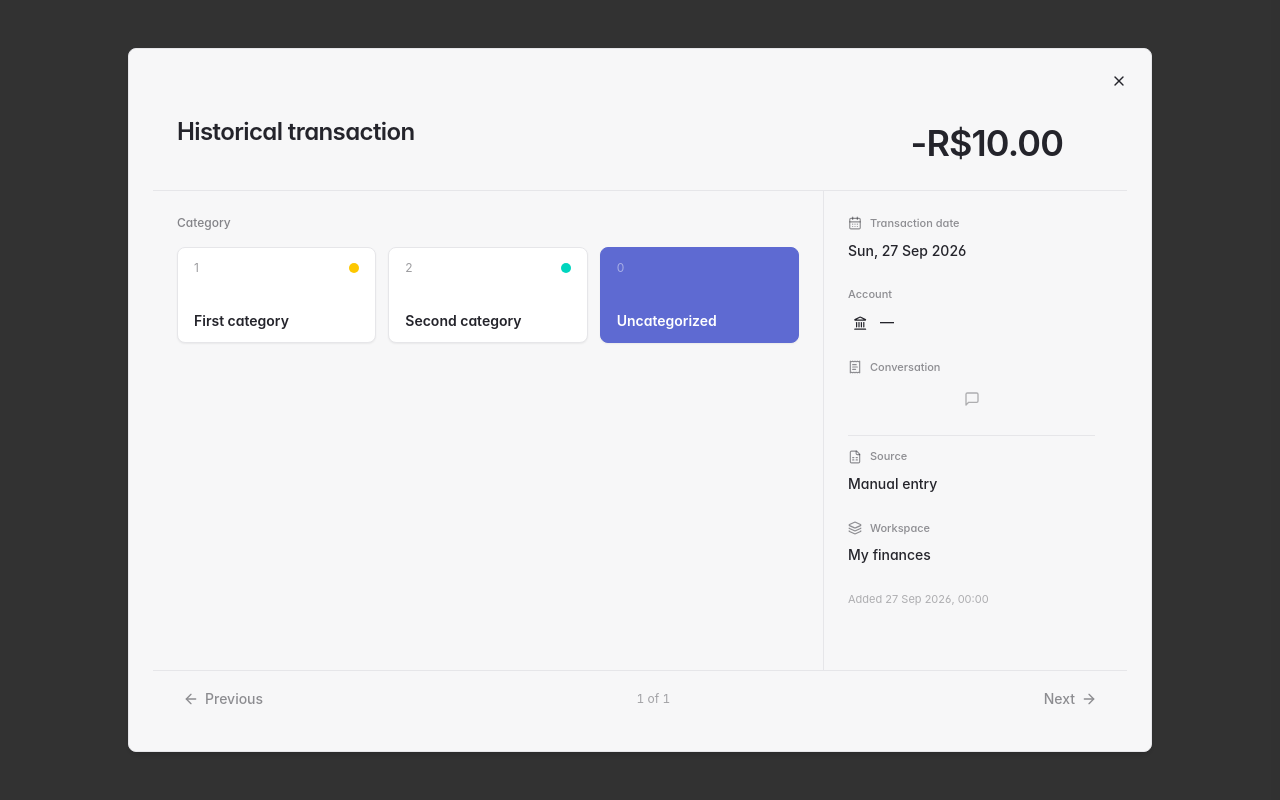
it: TransactionDetailsModal › closes the thread with Escape without closing transaction details or categorizing
Click the button named "Add transaction comment" at coordinates (972, 399), box [956,383,988,415]
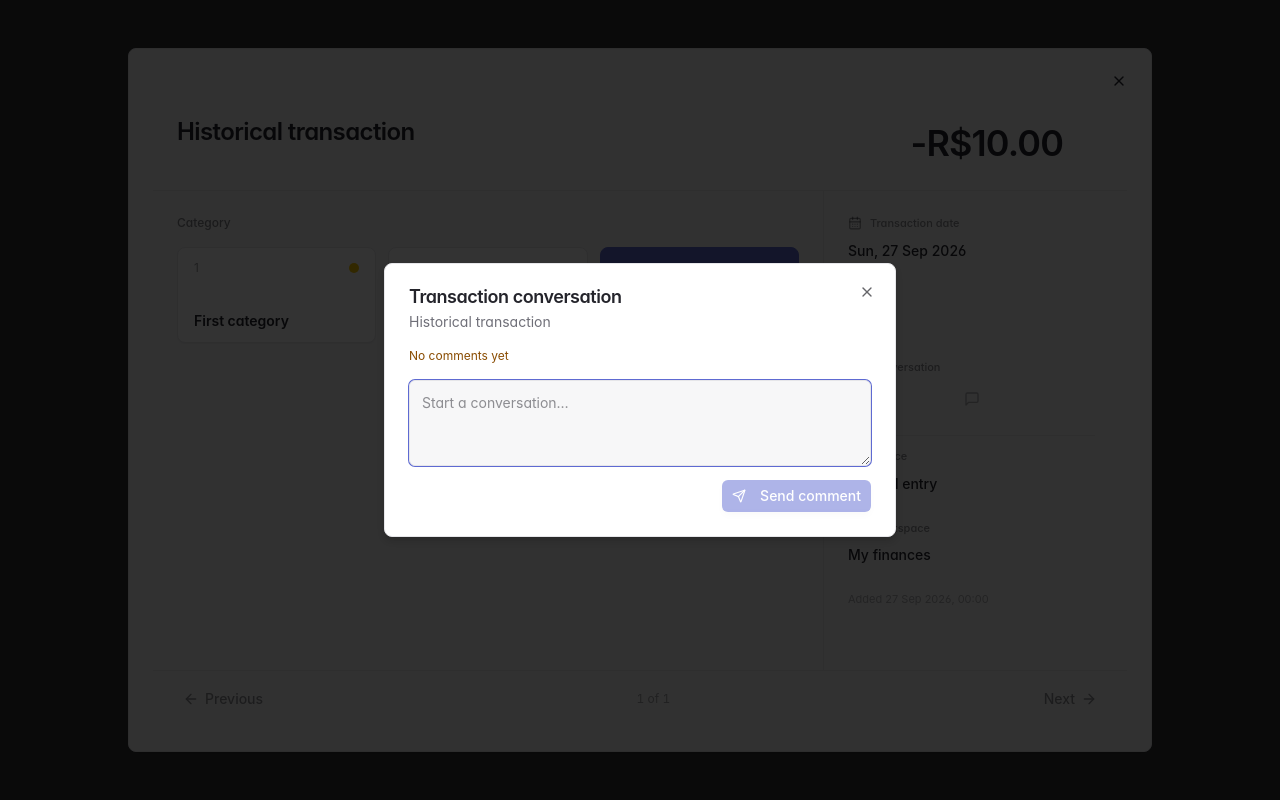
Type "Draft 123" into the text box named "Comment" at coordinates (640, 423), box [409,380,871,466]
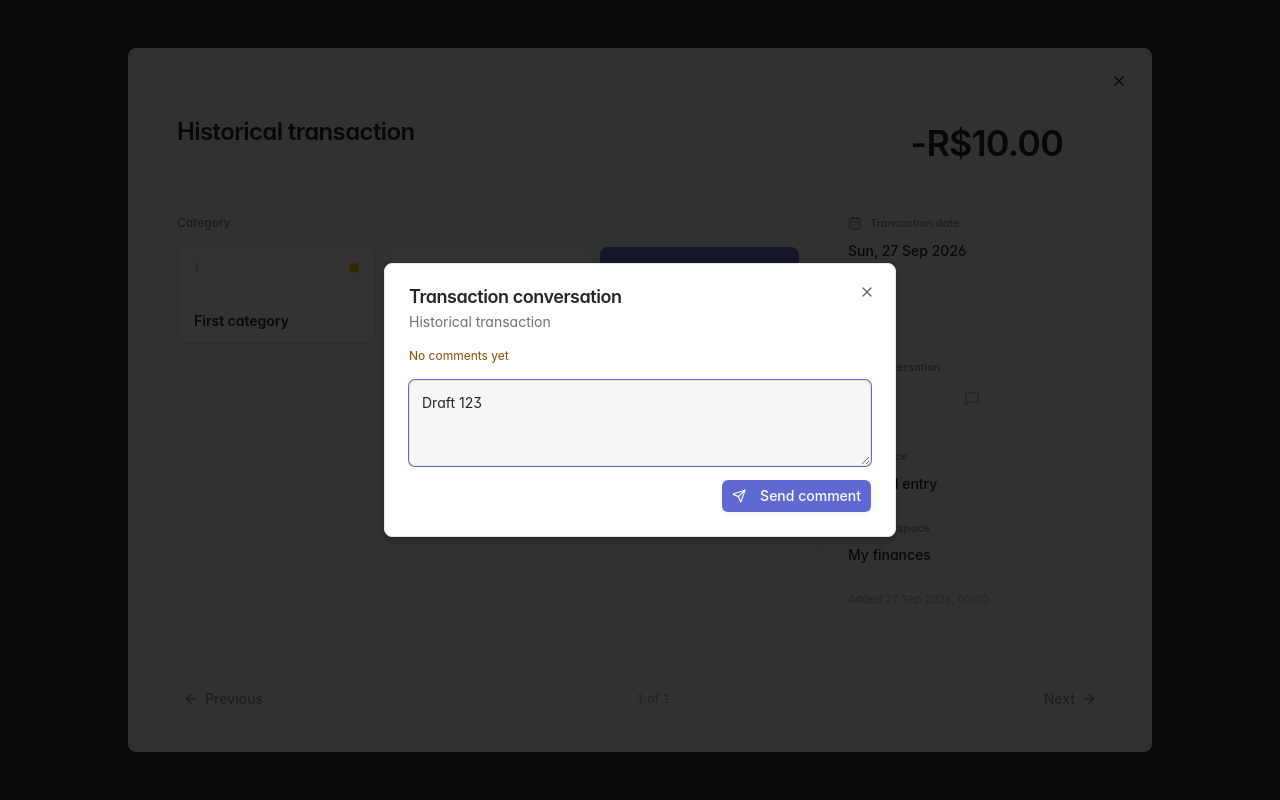
Press 1 in the text box named "Comment", box [409,380,871,466]
Press Escape in the text box named "Comment", box [409,380,871,466]
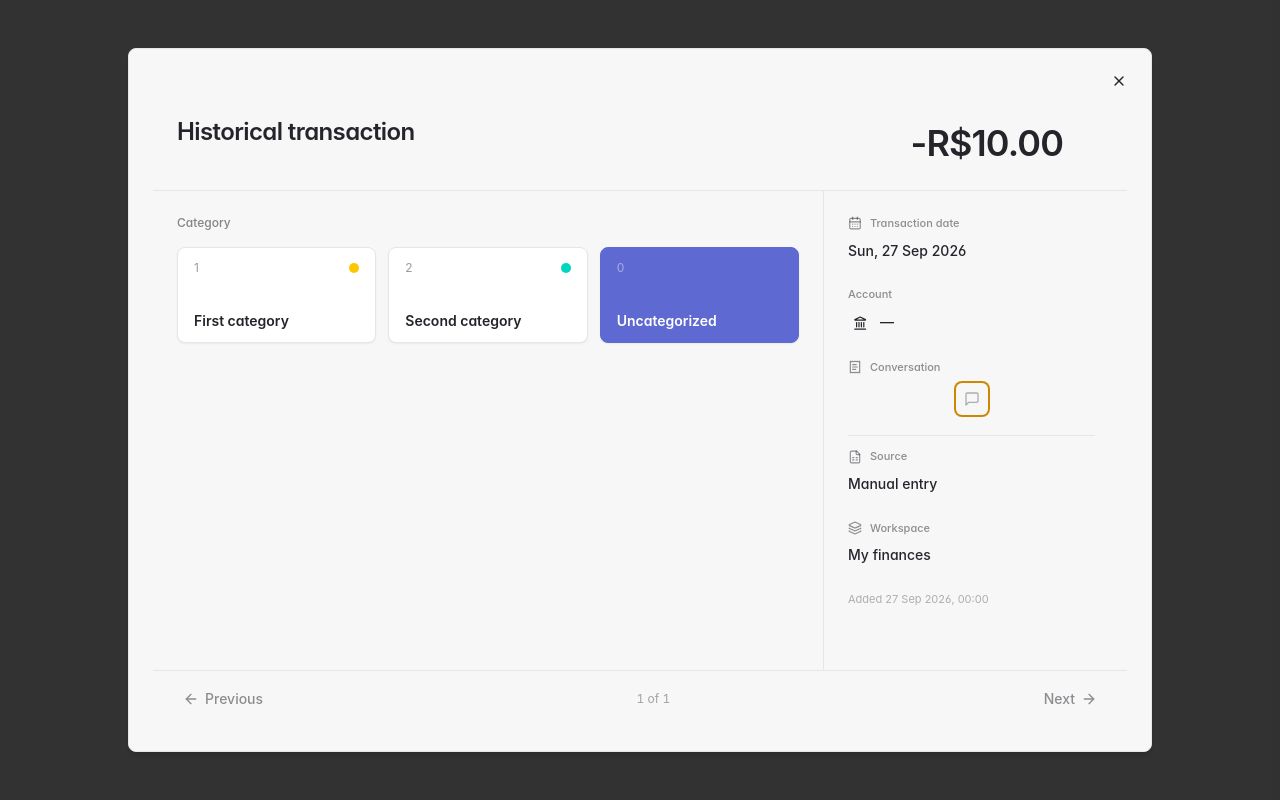
Expected: the message "comment" is gone
